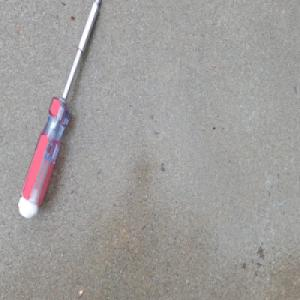Screwdriver: (18, 0, 101, 220)
